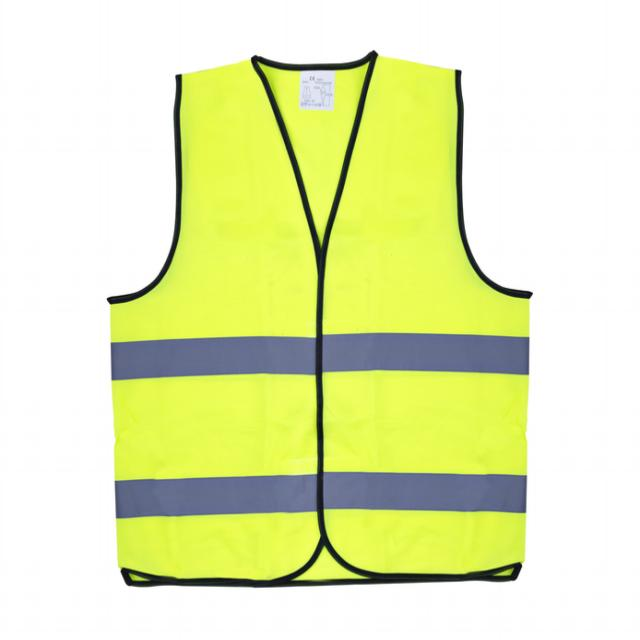Reflective-Jacket: (83, 47, 544, 604)
